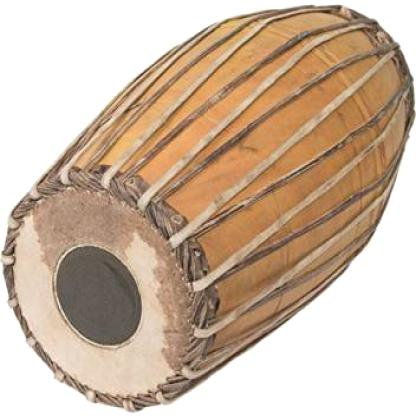Mridangam: (3, 1, 416, 416)
